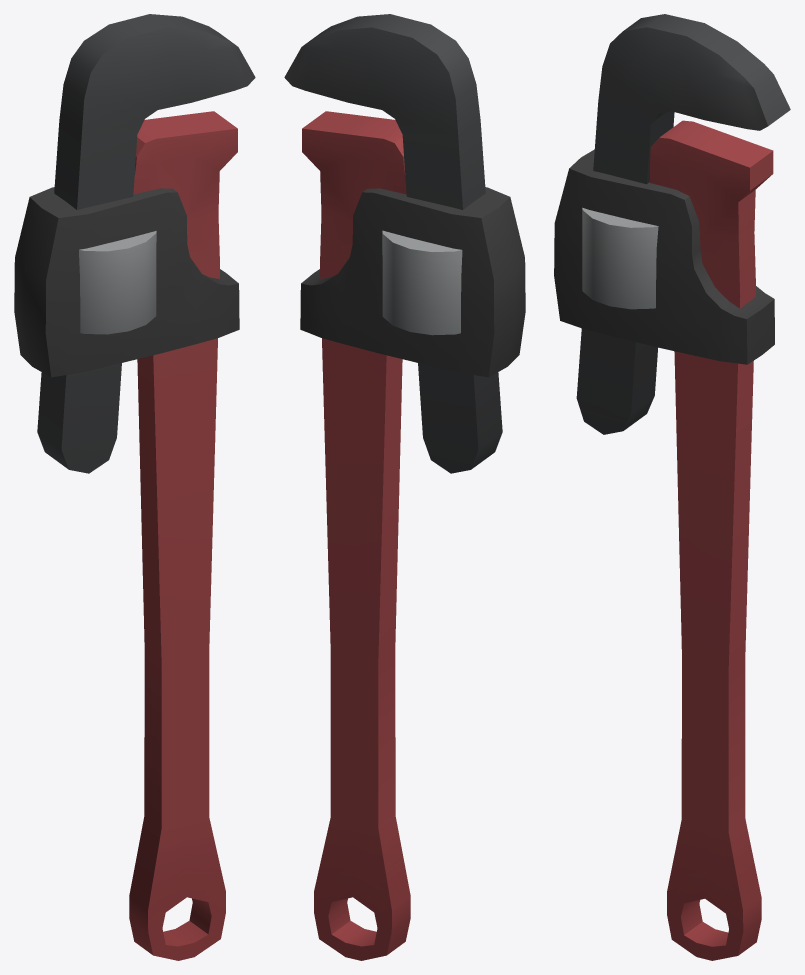
The model's file is PipeWrench.fbx.
3 views of the same model, side by side, from view 1: azimuth 30°, elevation 25°; view 2: azimuth 150°, elevation 25°; view 3: azimuth 330°, elevation 25° (orthographic).
Visible parts, largest first — view 1: PipeWrench; view 2: PipeWrench; view 3: PipeWrench.
Boxes of the visible parts, x1,y1,x2,y2 form: PipeWrench: [14, 14, 255, 960]; PipeWrench: [284, 14, 525, 960]; PipeWrench: [554, 14, 790, 960].
Bounding box in the file's own units: 23.12 × 10.72 × 94.08.
